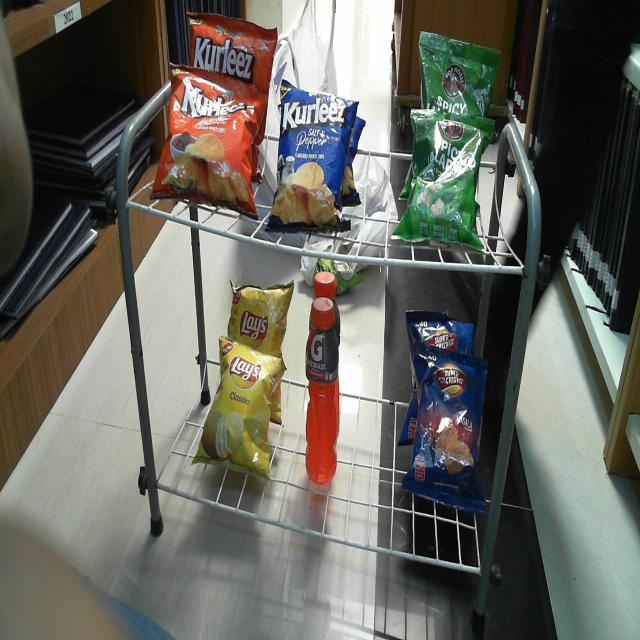Plastic: (160, 80, 260, 217), (404, 358, 486, 514), (396, 116, 488, 255), (270, 76, 350, 223), (195, 347, 280, 485), (186, 6, 278, 80), (417, 28, 497, 112), (305, 296, 338, 480), (225, 278, 294, 346), (403, 304, 478, 358)
